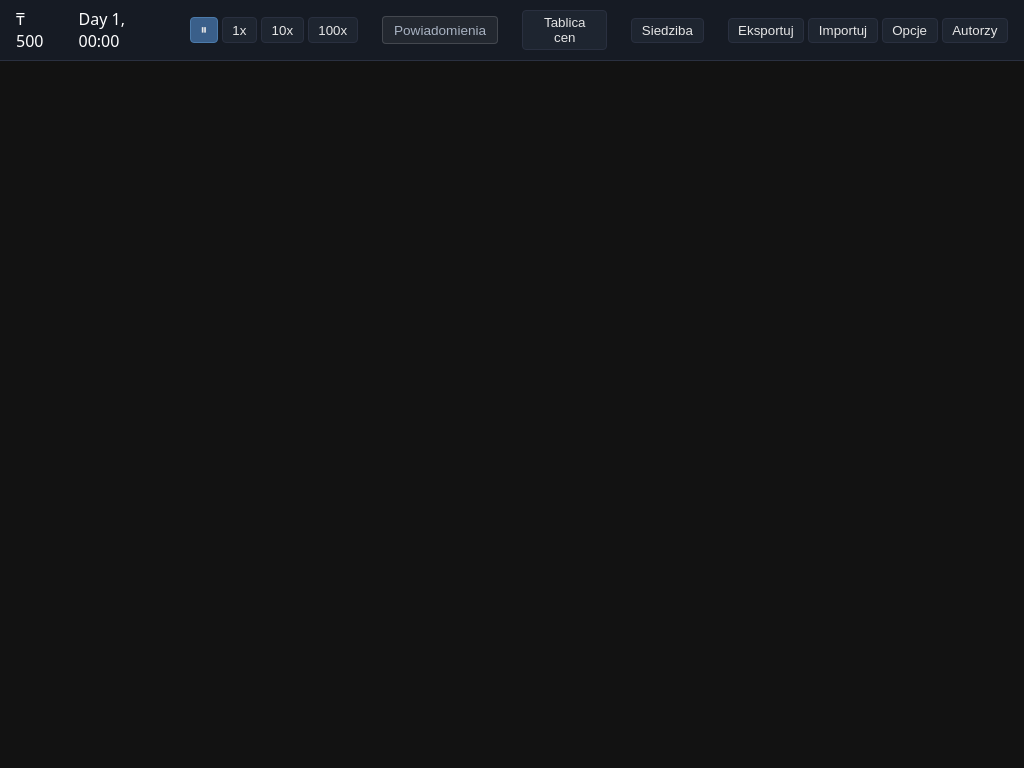
Test: TopBar overlays — single-overlay behaviour (#320) › each menu entry opens its overlay; the price-board hotkey toggles it
This screenshot has width=1024, height=768.
Step 1. Click the button "Tablica cen" → (565, 30), box x1=522 y1=10 x2=607 y2=50
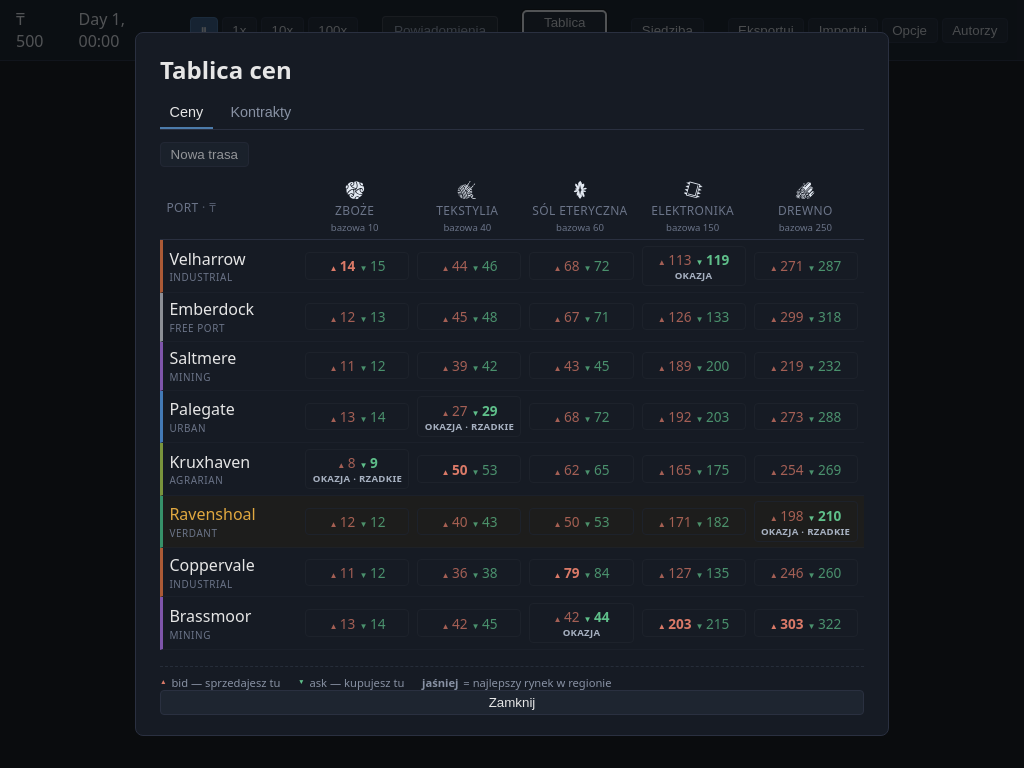
Expected: the table named "Regionalna tablica cen" is shown, x1=160 y1=175 x2=864 y2=650
Step 2. Type keys "b"
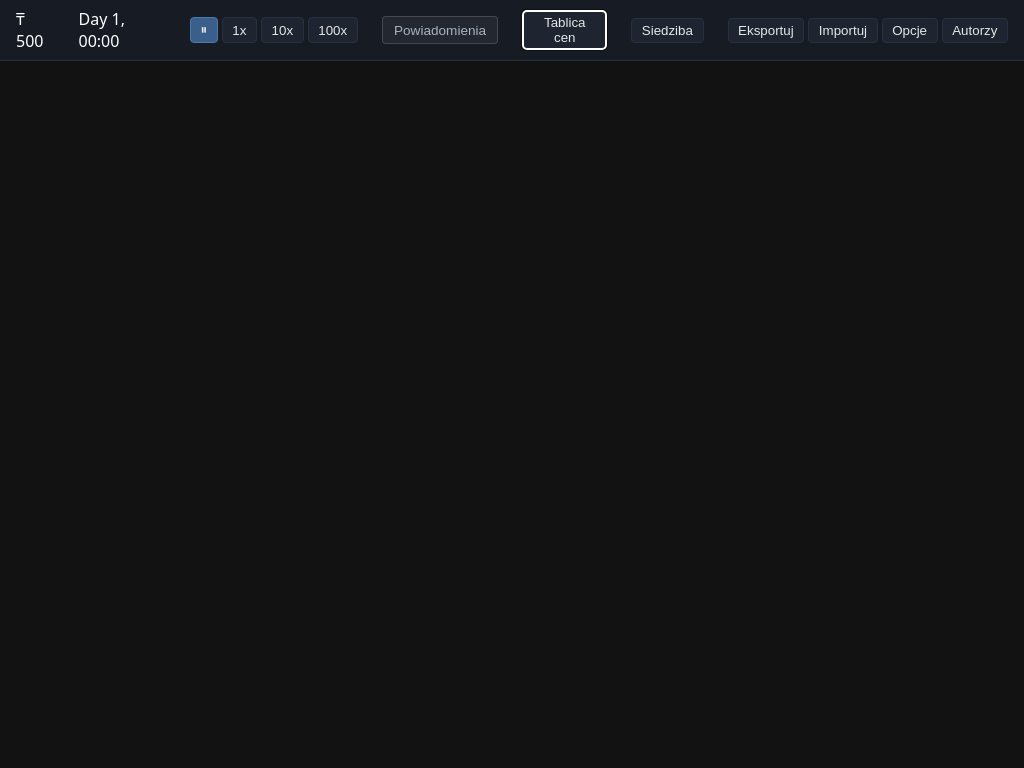
Step 3. Click the button "Siedziba" → (667, 30), box x1=631 y1=18 x2=704 y2=42
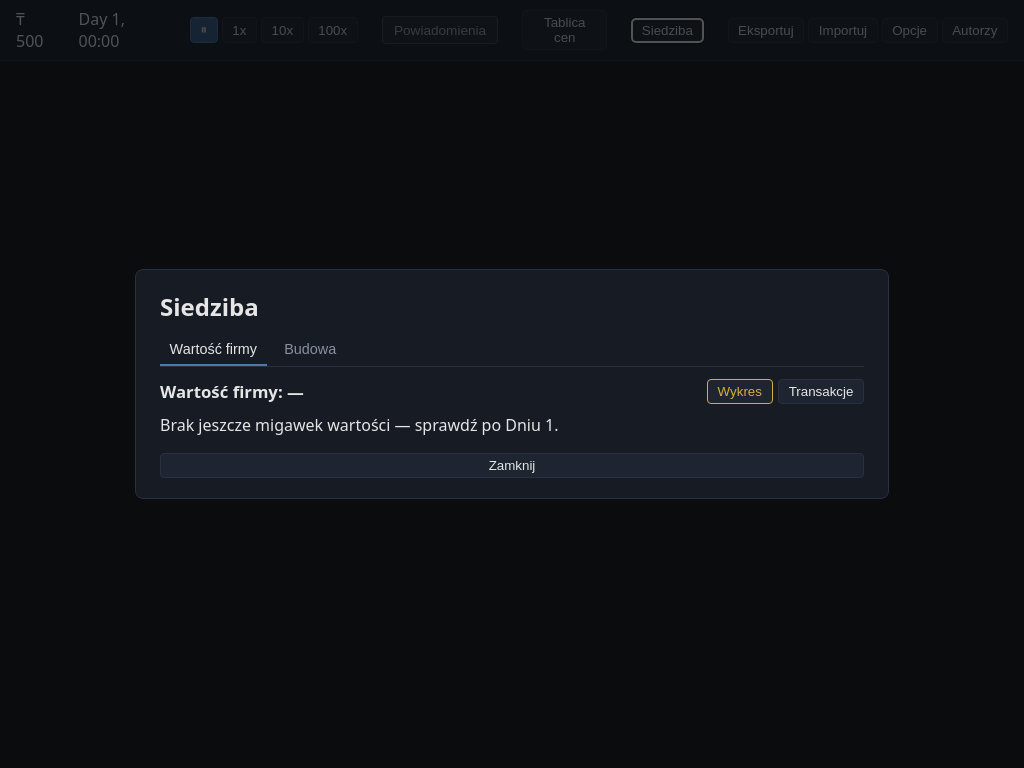
Expected: the dialog "Siedziba" is shown
Step 4. Click the button "Transakcje" → (821, 391), box x1=778 y1=379 x2=864 y2=404
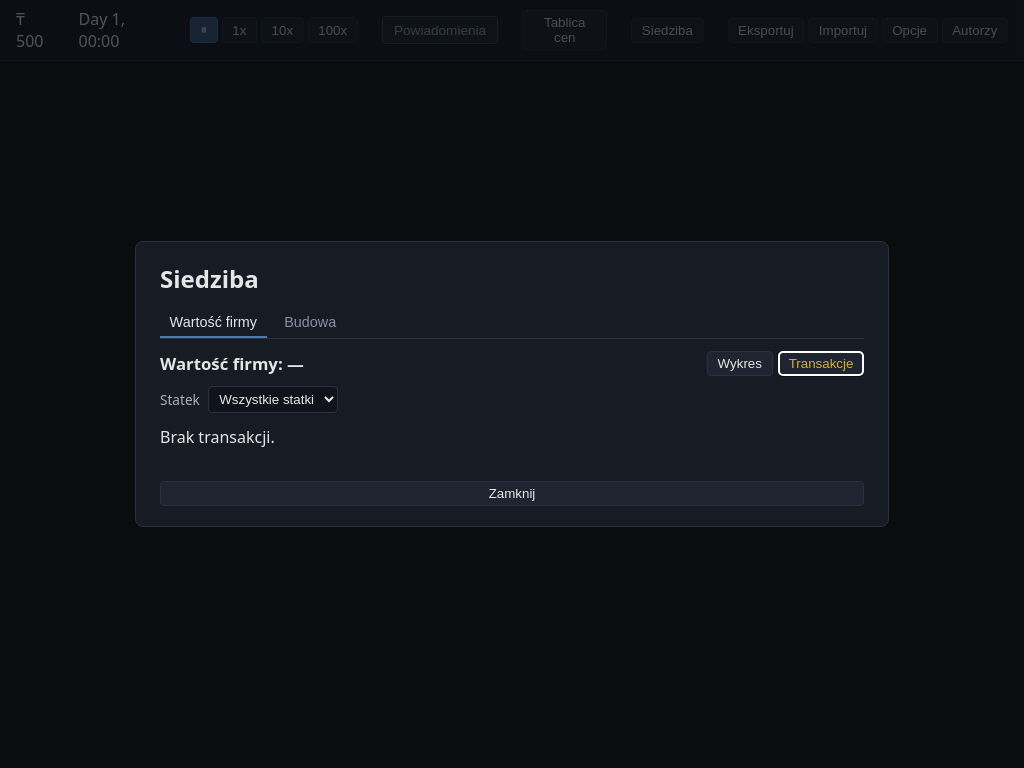
Expected: the table named "Transakcje" is shown, x1=160 y1=426 x2=275 y2=448
